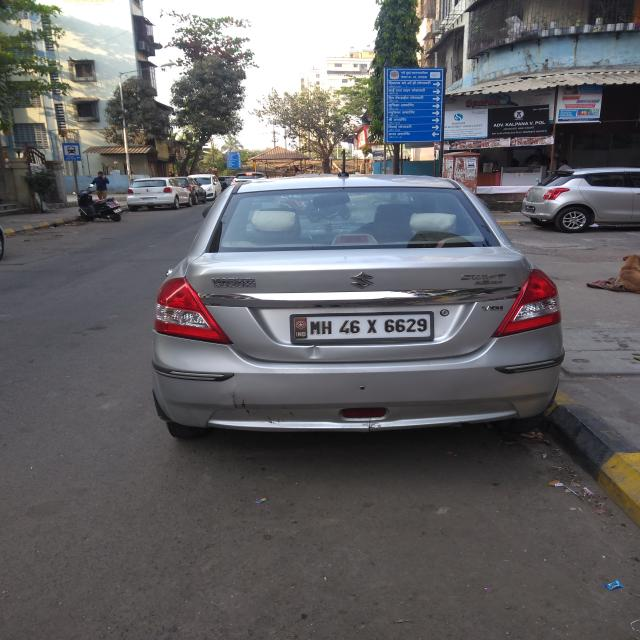Number-Plate: (297, 312, 433, 339)
